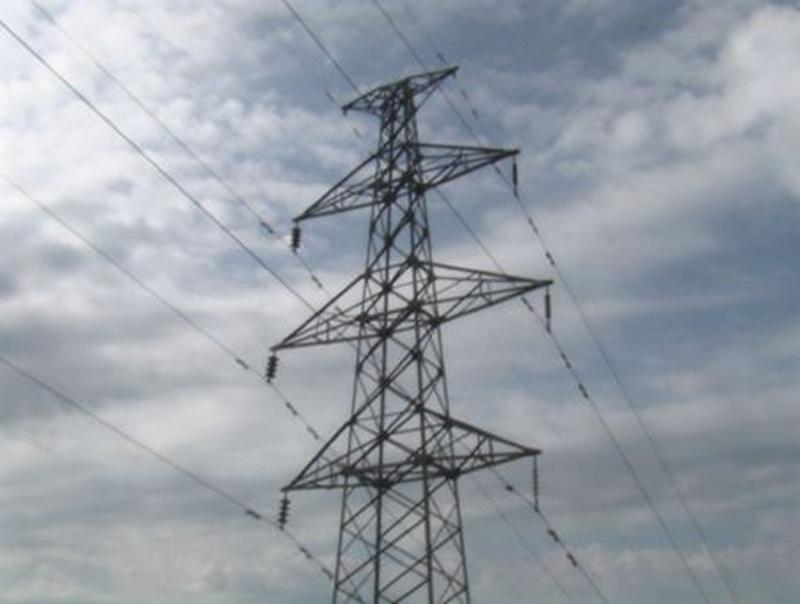power_tower: (236, 54, 546, 599)
